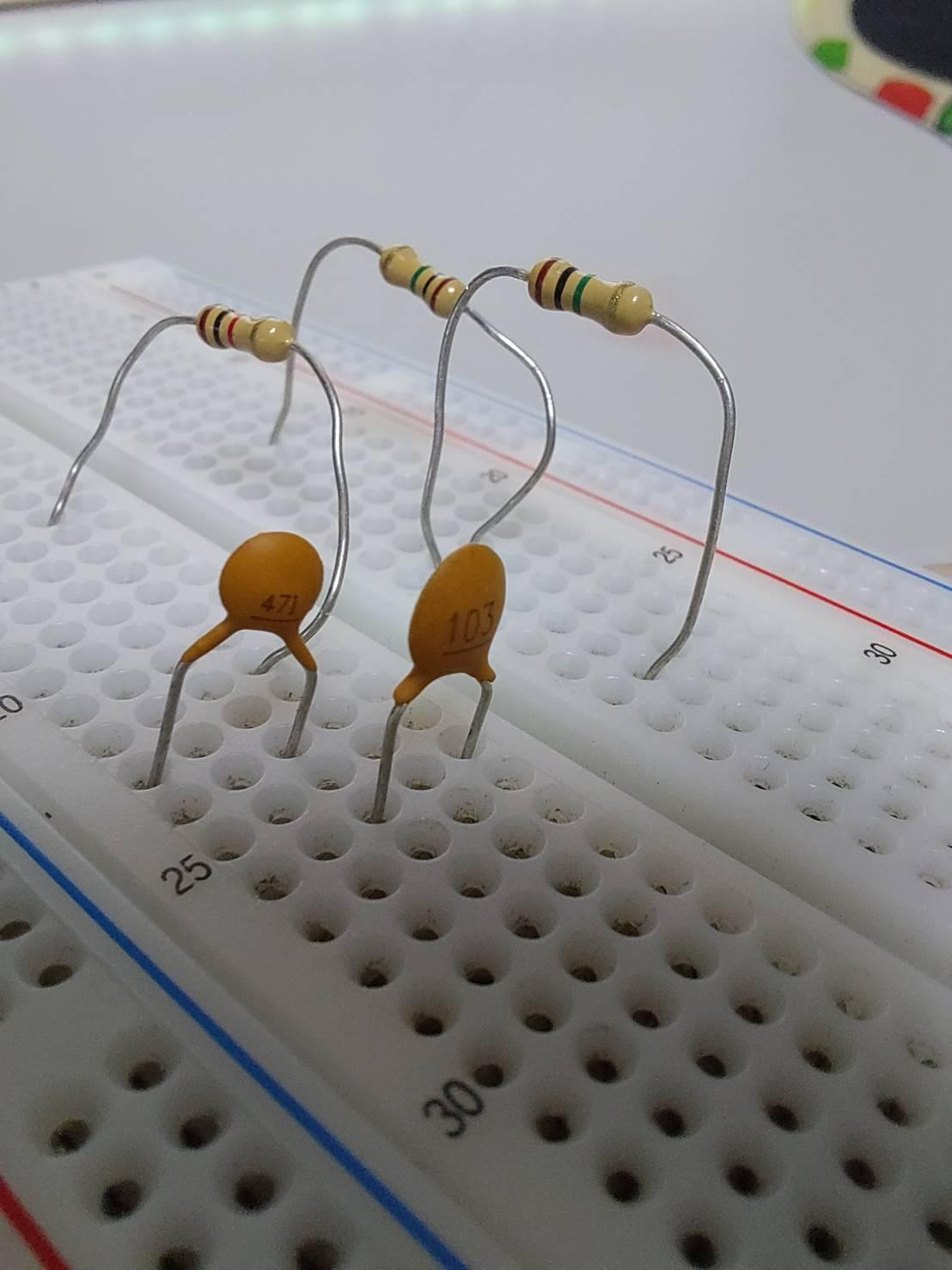resistor: (522, 252, 659, 337), (191, 291, 298, 364), (378, 238, 469, 321)
